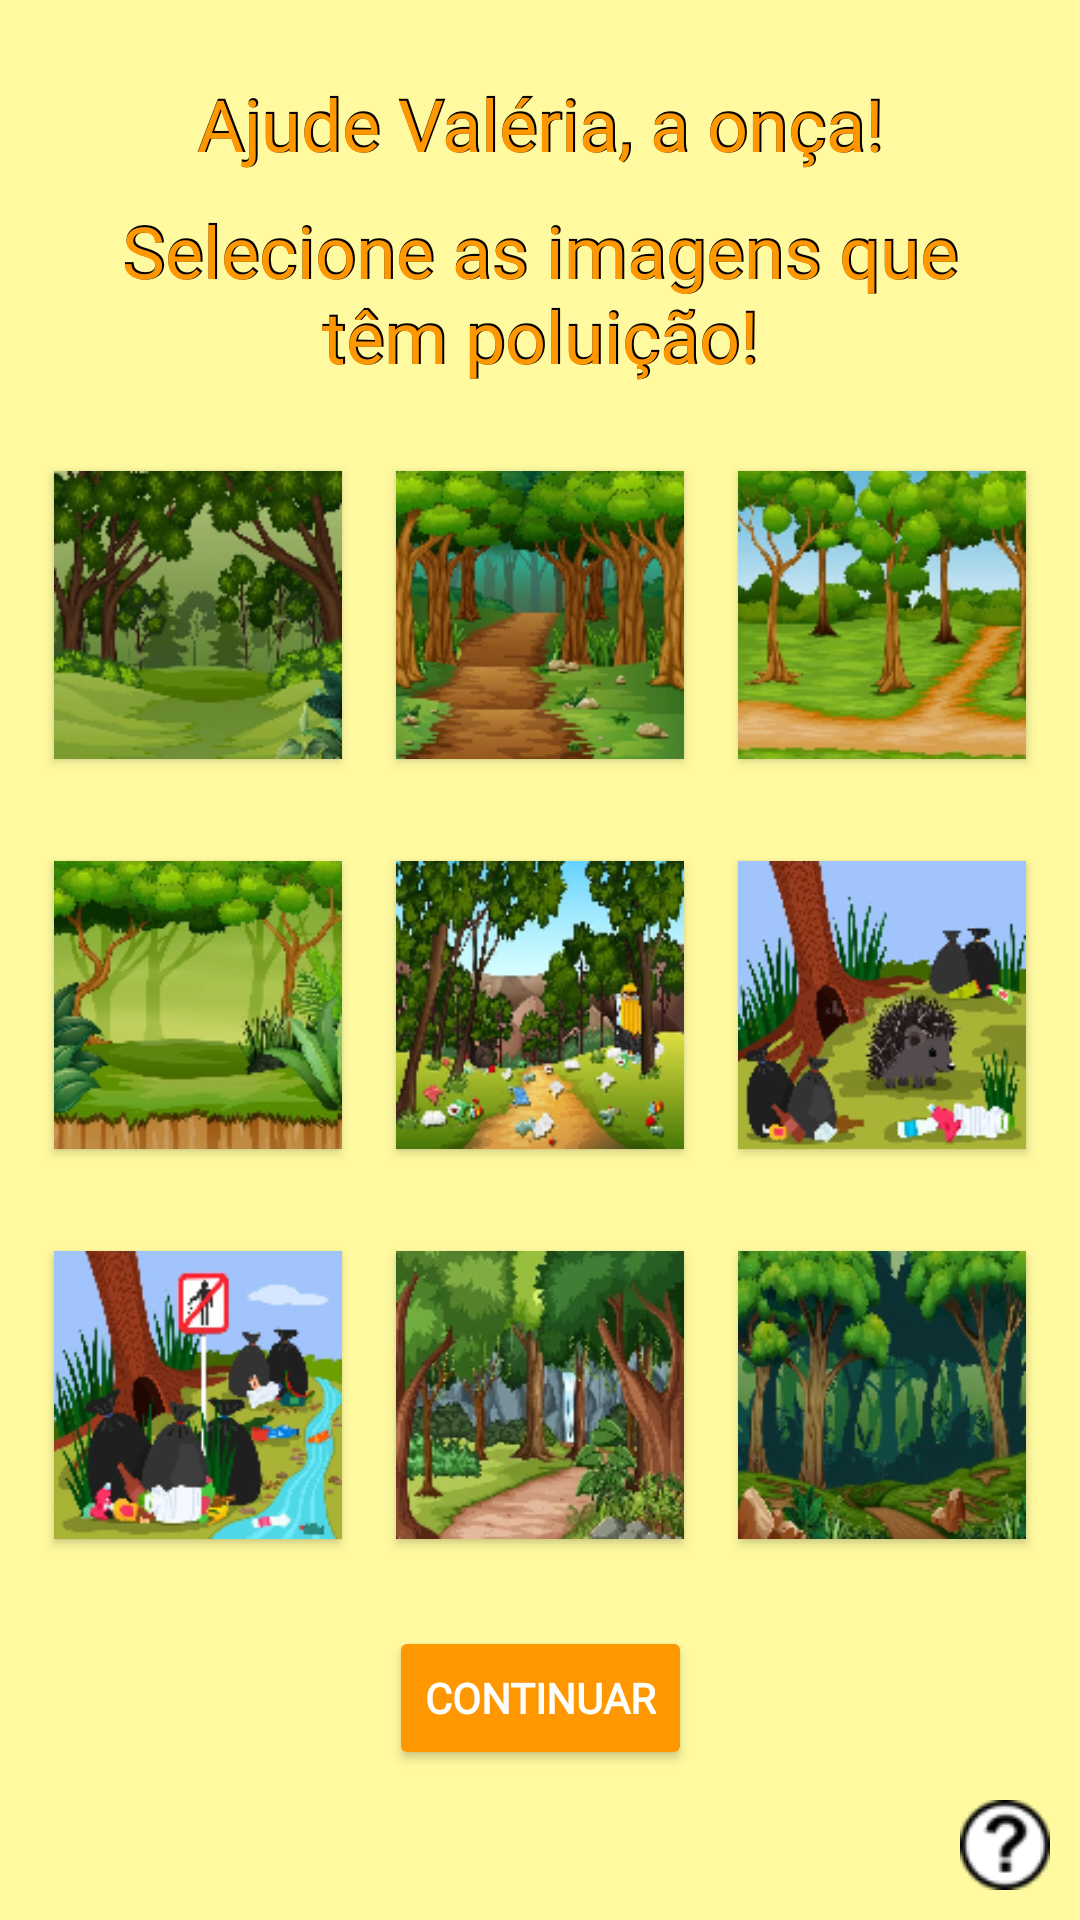

Where to tap for icons on this 1080 × 1920 app screen, as (x=x, y=y):
tutorial: (x=1005, y=1845)
